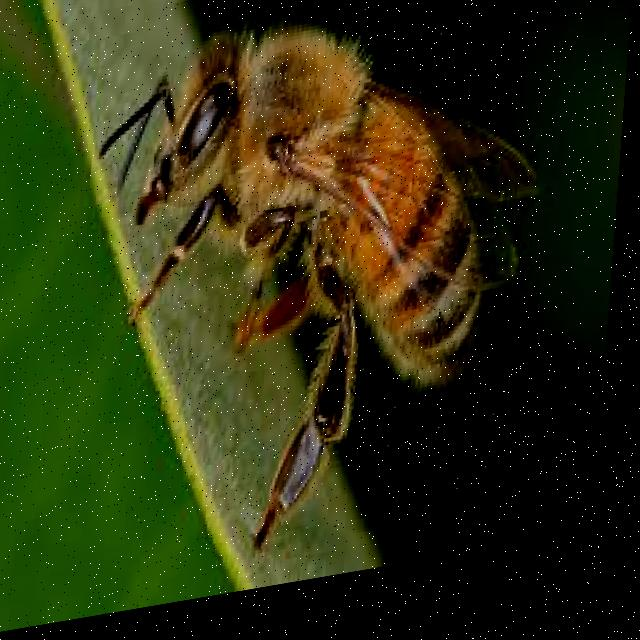Apis-mellifera-scutellata: (70, 0, 562, 587)
